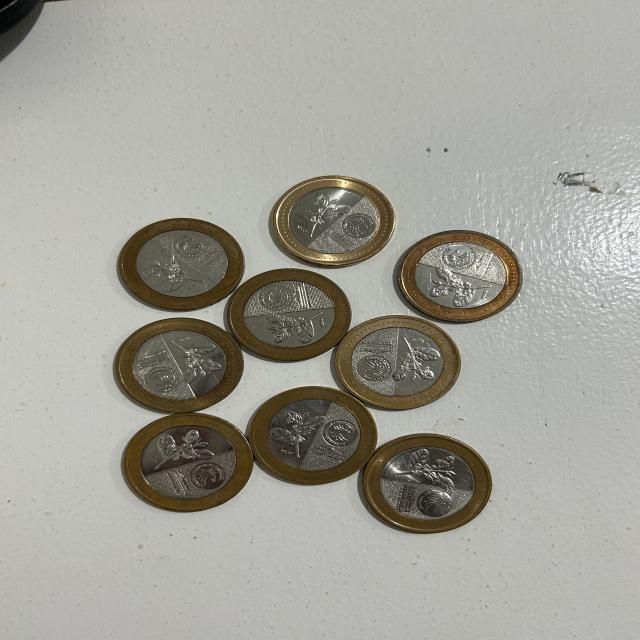20_New_Back: (393, 322, 453, 388), (143, 422, 215, 476), (292, 192, 348, 246)
